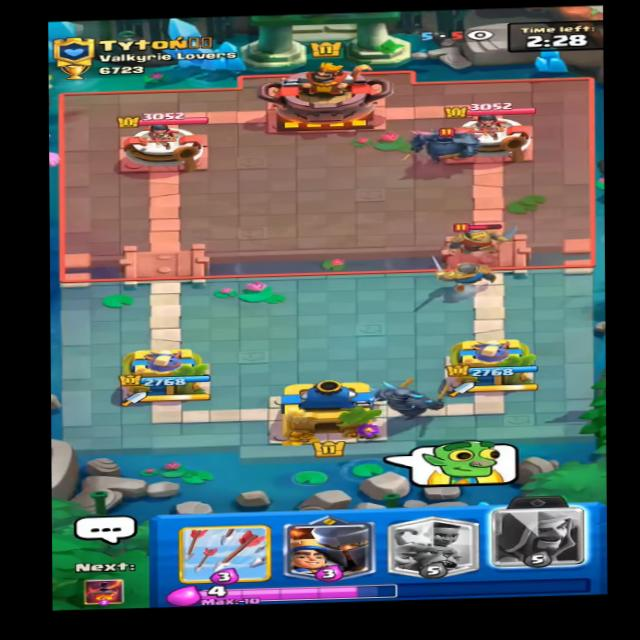knight: (446, 214, 523, 254)
pekka: (400, 122, 484, 165)
